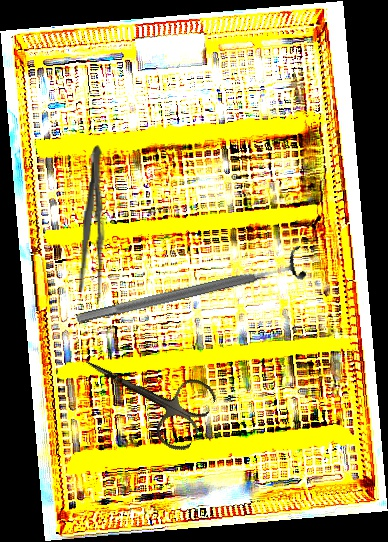Dressing Forceps: (78, 144, 109, 307)
Fixation Ring: (72, 244, 309, 336)
Iris Scissors: (69, 328, 220, 456)
